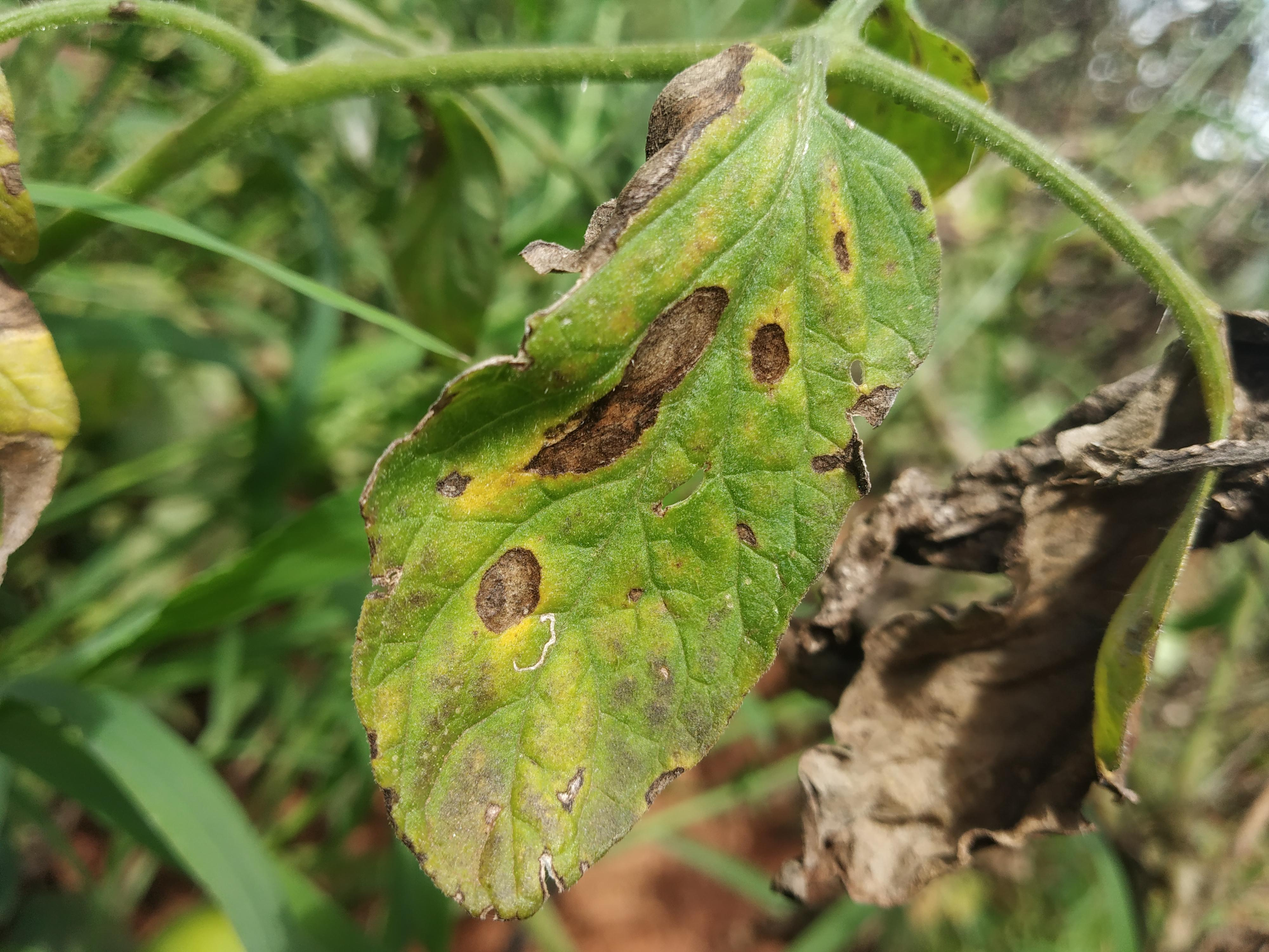Early Blight: (49, 244, 1244, 689)
